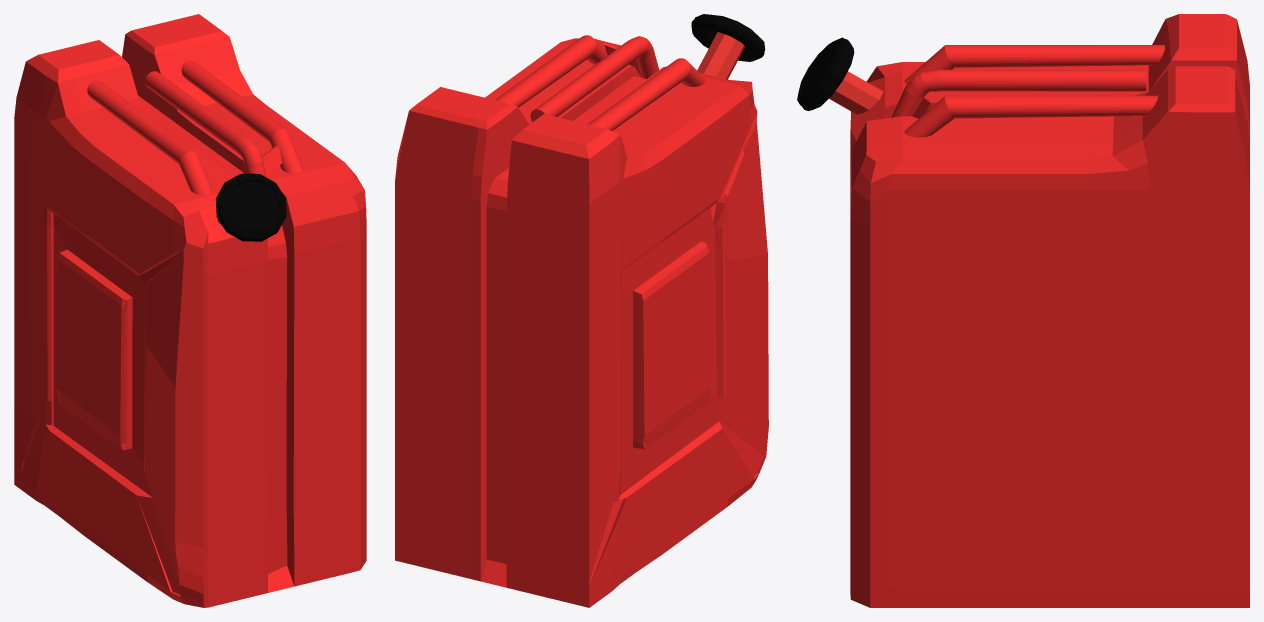
File: jerrycan.fbx
3 renders of one model, left to right at view 1: azimuth 30°, elevation 25°; view 2: azimuth 150°, elevation 25°; view 3: azimuth 270°, elevation 25°, orthographic. The views are drawn at different scales.
Visible parts, largest first — view 1: Cube, Torus.004, Cylinder.001; view 2: Cube, Cylinder.001, Torus.004, Cylinder; view 3: Cube, Cylinder.001, Torus.004, Cylinder.
Boxes of the visible parts, box(x1,y1,x2,y2) form: Cube: box(14, 14, 366, 607); Torus.004: box(215, 173, 286, 241); Cylinder.001: box(145, 71, 282, 177); Cube: box(395, 35, 768, 607); Cylinder.001: box(530, 36, 659, 122); Torus.004: box(691, 14, 765, 61); Cylinder: box(697, 32, 745, 79); Cube: box(850, 14, 1249, 607); Cylinder.001: box(891, 69, 1146, 118); Torus.004: box(797, 37, 854, 110); Cylinder: box(829, 71, 883, 114).
Size of the model in its own units: 159 by 342 by 282.
